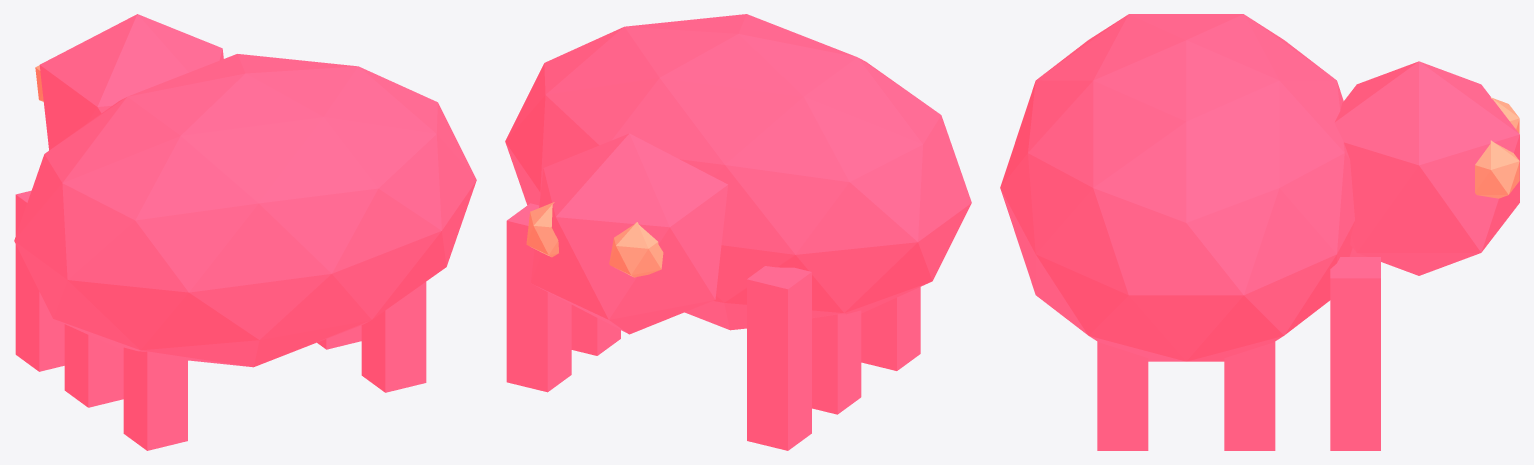
The model's file is enemy.glb.
3 views of the same model, side by side, from view 1: azimuth 30°, elevation 25°; view 2: azimuth 150°, elevation 25°; view 3: azimuth 270°, elevation 25° (orthographic). The views are drawn at different scales.
Parts seen in each view (by area): view 1: BugBody, BugHead, BugLeg_0_0, BugLeg_1_0, BugLeg_0_2, BugLeg_0_1, BugLeg_1_1; view 2: BugBody, BugHead, BugLeg_0_2, BugLeg_1_2, BugLeg_0_1, BugLeg_0_0, BugEyeL, BugLeg_1_1, BugEyeR; view 3: BugBody, BugHead, BugLeg_1_2, BugLeg_1_1, BugLeg_1_0, BugEyeR.
Boxes of the visible parts, left/top/right/bottom form: BugBody: left=14, top=54, right=476, bottom=367; BugHead: left=39, top=14, right=223, bottom=150; BugLeg_0_0: left=123, top=347, right=187, bottom=450; BugLeg_1_0: left=361, top=282, right=426, bottom=392; BugLeg_0_2: left=15, top=190, right=64, bottom=371; BugLeg_0_1: left=64, top=324, right=123, bottom=407; BugLeg_1_1: left=317, top=325, right=361, bottom=349; BugBody: left=505, top=14, right=971, bottom=330; BugHead: left=531, top=133, right=727, bottom=334; BugLeg_0_2: left=747, top=266, right=811, bottom=450; BugLeg_1_2: left=506, top=203, right=571, bottom=392; BugLeg_0_1: left=812, top=310, right=861, bottom=414; BugLeg_0_0: left=861, top=287, right=920, bottom=370; BugEyeL: left=609, top=222, right=663, bottom=277; BugLeg_1_1: left=571, top=305, right=620, bottom=355; BugEyeR: left=526, top=202, right=558, bottom=257; BugBody: left=1000, top=14, right=1354, bottom=361; BugHead: left=1334, top=61, right=1519, bottom=275; BugLeg_1_2: left=1330, top=257, right=1380, bottom=450; BugLeg_1_1: left=1224, top=342, right=1275, bottom=450; BugLeg_1_0: left=1097, top=341, right=1148, bottom=450; BugEyeR: left=1475, top=140, right=1519, bottom=198.
Size of the model in its own units: 1.2 by 0.88 by 1.23.
